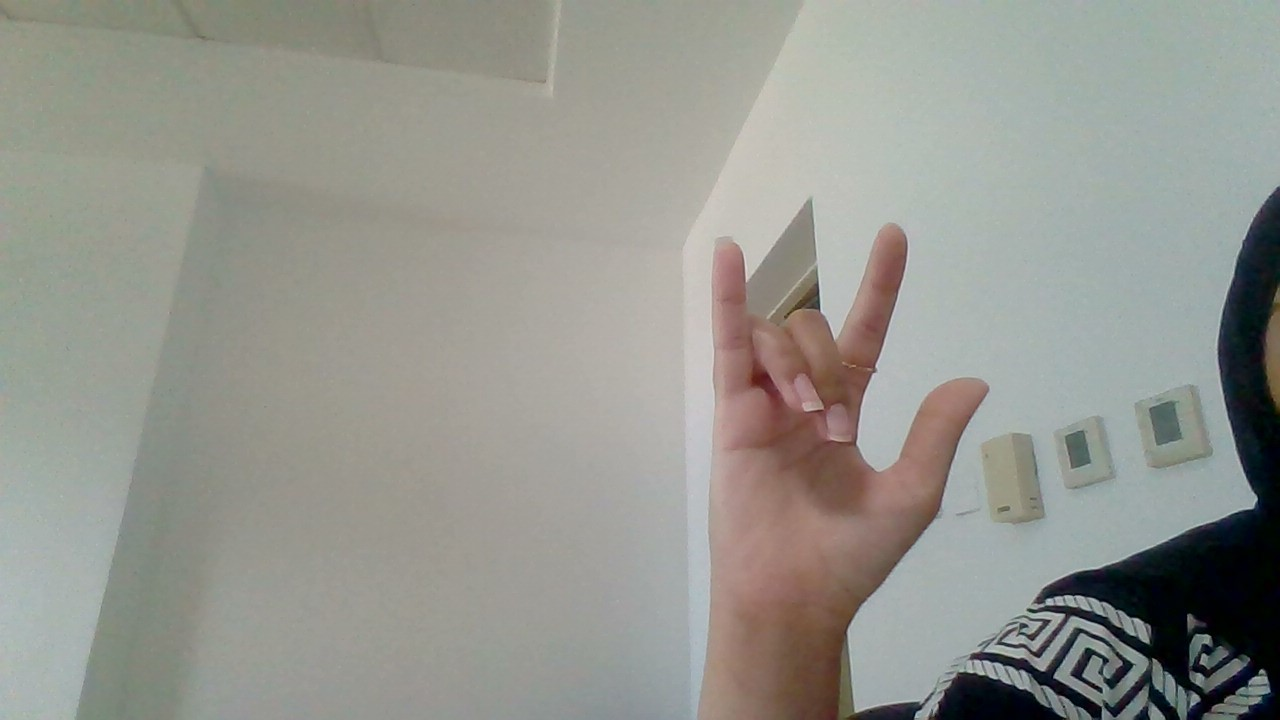love: (693, 202, 1015, 645)
